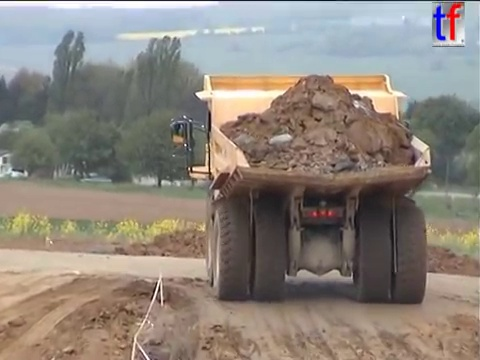truck: (166, 71, 434, 307)
